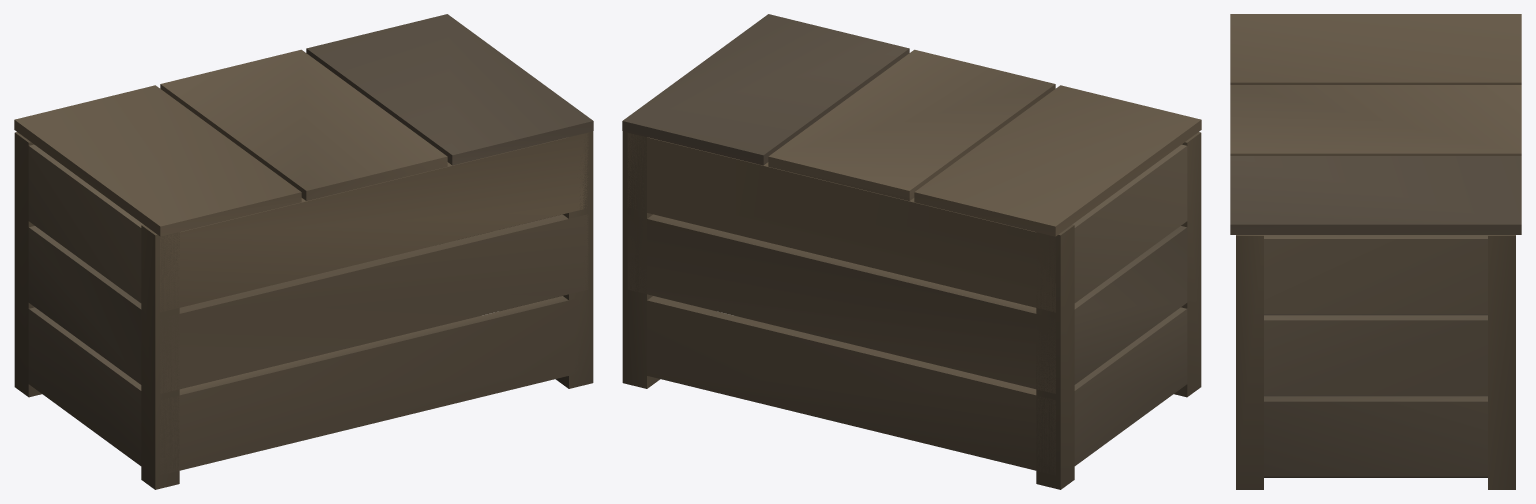
File: m01_prop_supply_crate_planked_lod1.glb
The picture shows the model from 3 angles, left to right: view 1: azimuth 30°, elevation 25°; view 2: azimuth 150°, elevation 25°; view 3: azimuth 270°, elevation 25°; orthographic projection.
Visible parts, largest first — view 1: supply_crate_planked; view 2: supply_crate_planked; view 3: supply_crate_planked.
Part boxes in pixels (bbox=[...]): supply_crate_planked: bbox=[14, 14, 593, 489]; supply_crate_planked: bbox=[622, 14, 1201, 489]; supply_crate_planked: bbox=[1230, 14, 1521, 489].
Bounding box in the file's own units: 0.9 × 0.52 × 0.52.
